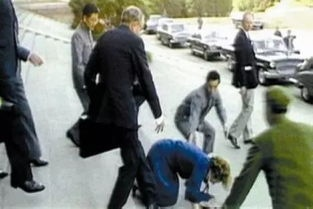falling: (133, 129, 235, 209)
